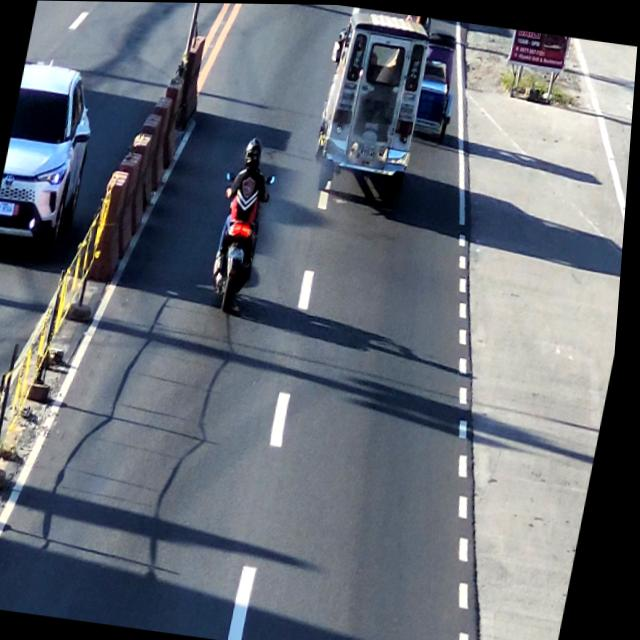Jeep: (309, 9, 435, 192)
License-Plate: (0, 195, 21, 220), (230, 244, 250, 258)
Motorcycle: (203, 131, 284, 326)
Tricycle: (415, 17, 469, 127)
